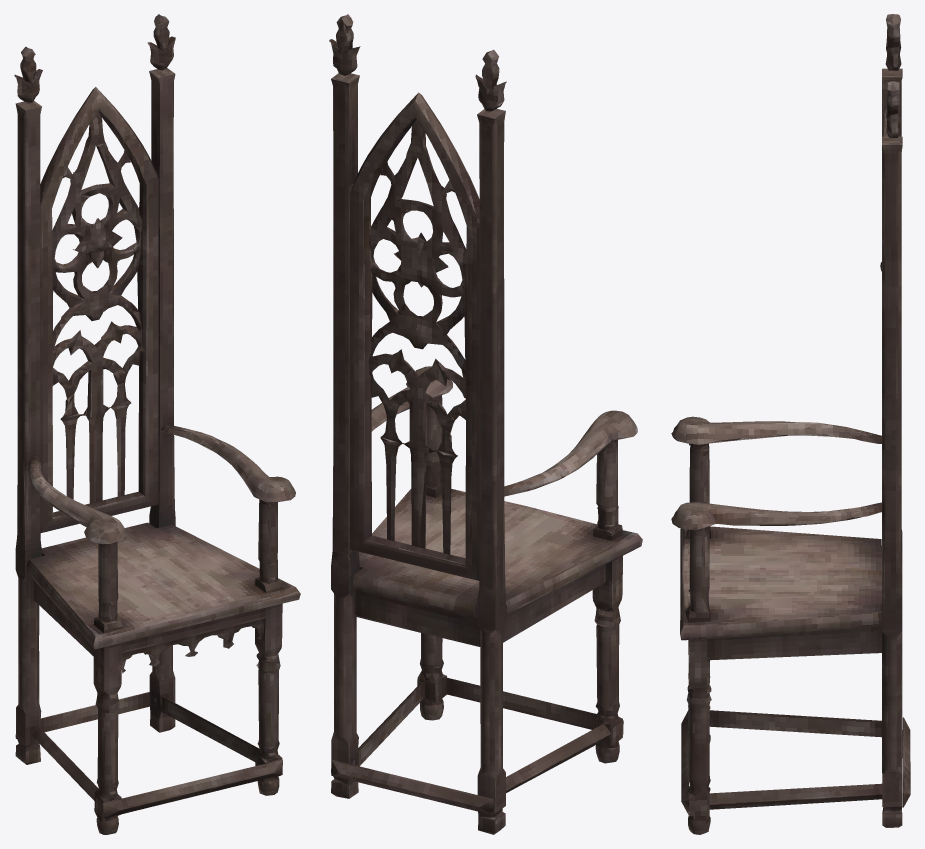
Rendered from b_chair.glb.
3 renders of one model, left to right at view 1: azimuth 30°, elevation 25°; view 2: azimuth 150°, elevation 25°; view 3: azimuth 270°, elevation 25°, orthographic. The views are drawn at different scales.
Visible parts, largest first — view 1: body; view 2: body; view 3: body.
Boxes of the visible parts, <box> form: body: <box>14,14,300,834</box>; body: <box>329,14,642,834</box>; body: <box>671,14,910,834</box>.
Bounding box in the file's own units: 0.6899 × 2.27 × 0.6632.
Materials: 1 (1 with a texture image).
